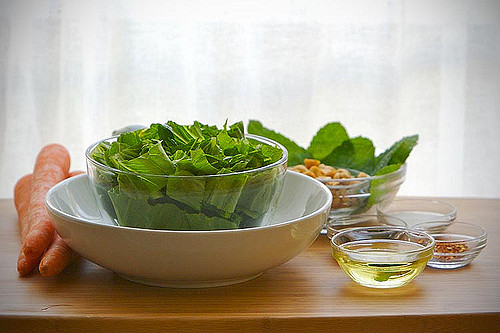chopped lettuce: (108, 123, 272, 231)
